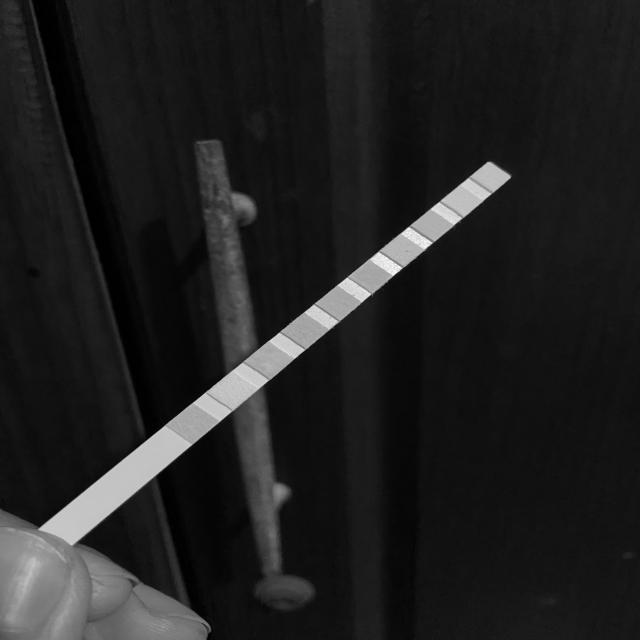Bilirubin: (220, 380, 244, 402)
Blood: (328, 294, 348, 313)
Glucose: (180, 412, 205, 434)
Ketone: (258, 350, 280, 370)
Leukocytes: (480, 168, 500, 187)
Nitrite: (452, 192, 472, 210)
Protein: (392, 241, 412, 259)
SpGravity: (294, 321, 314, 342)
Urobilinogen: (421, 217, 442, 234)
background: (0, 0, 640, 640)
pH: (360, 267, 380, 287)
strip: (44, 162, 513, 545)
